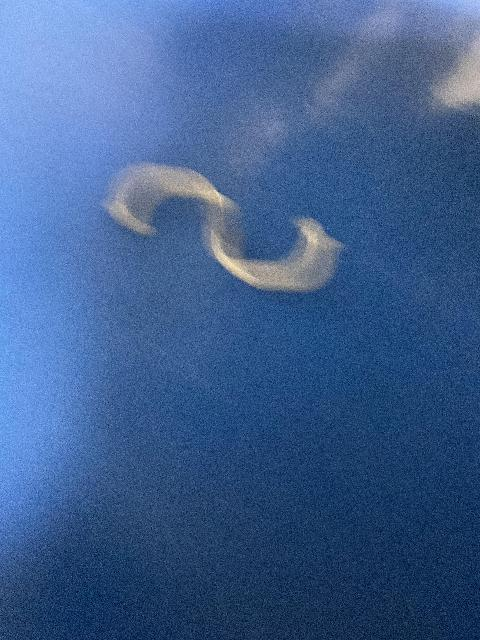Plastik: (108, 156, 341, 310)
